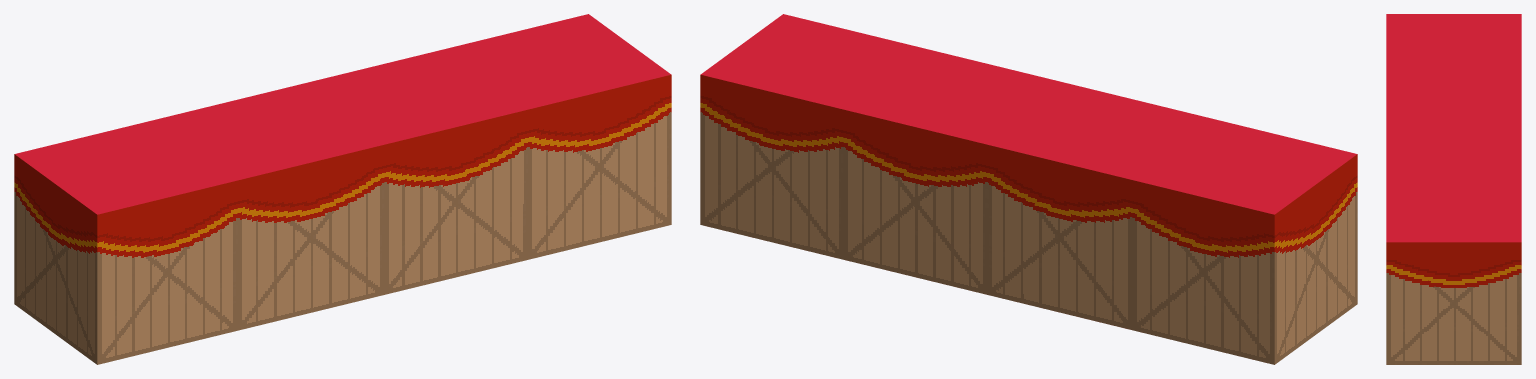
The model's file is counter w proper materials.fbx.
The picture shows the model from 3 angles, left to right: view 1: azimuth 30°, elevation 25°; view 2: azimuth 150°, elevation 25°; view 3: azimuth 270°, elevation 25°; orthographic projection. The views are drawn at different scales.
Parts seen in each view (by area): view 1: Cube; view 2: Cube; view 3: Cube.
Part boxes in pixels (x1,y1,x2,y2): Cube: [14, 14, 671, 364]; Cube: [700, 14, 1357, 364]; Cube: [1386, 14, 1521, 364].
Size of the model in its own units: 800 by 200 by 200.
